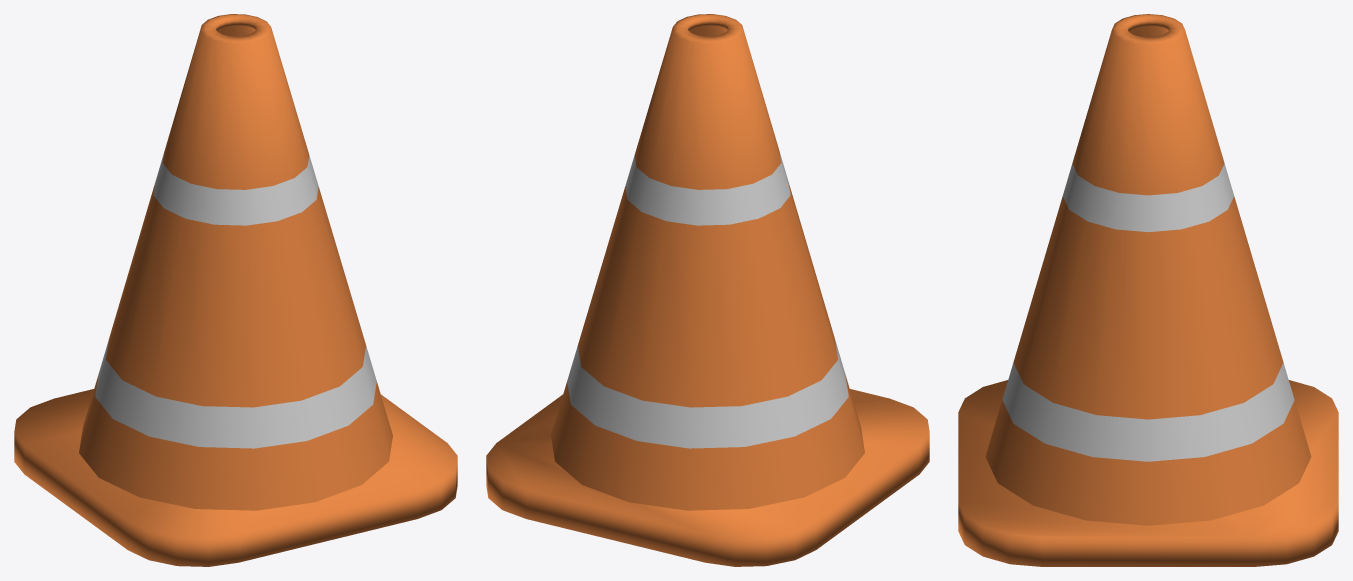
The model's file is cautionCone.fbx.
The picture shows the model from 3 angles, left to right: view 1: azimuth 30°, elevation 25°; view 2: azimuth 150°, elevation 25°; view 3: azimuth 270°, elevation 25°; orthographic projection. The views are drawn at different scales.
Visible parts, largest first — view 1: Caution Cone; view 2: Caution Cone; view 3: Caution Cone.
Boxes of the visible parts, x1,y1,x2,y2 form: Caution Cone: [14, 14, 457, 566]; Caution Cone: [486, 14, 929, 566]; Caution Cone: [958, 14, 1338, 566].
Size of the model in its own units: 33.4 by 33.4 by 44.45.
